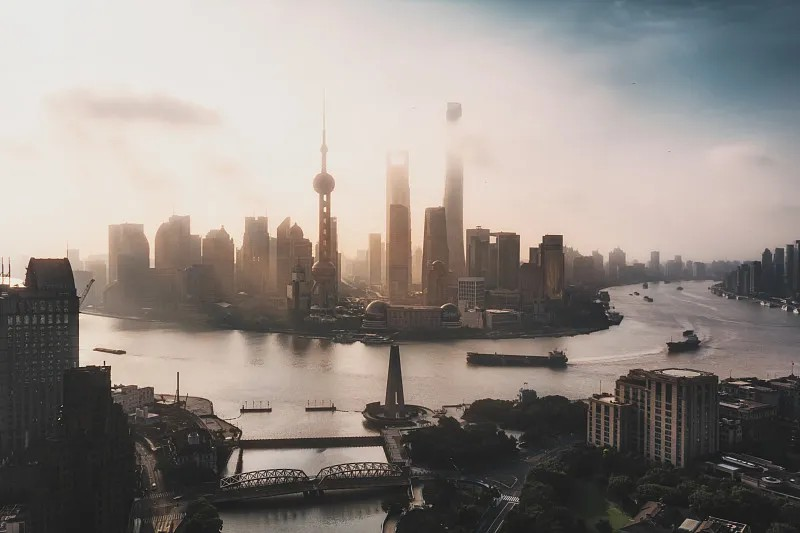Oriental: (312, 99, 337, 302)
